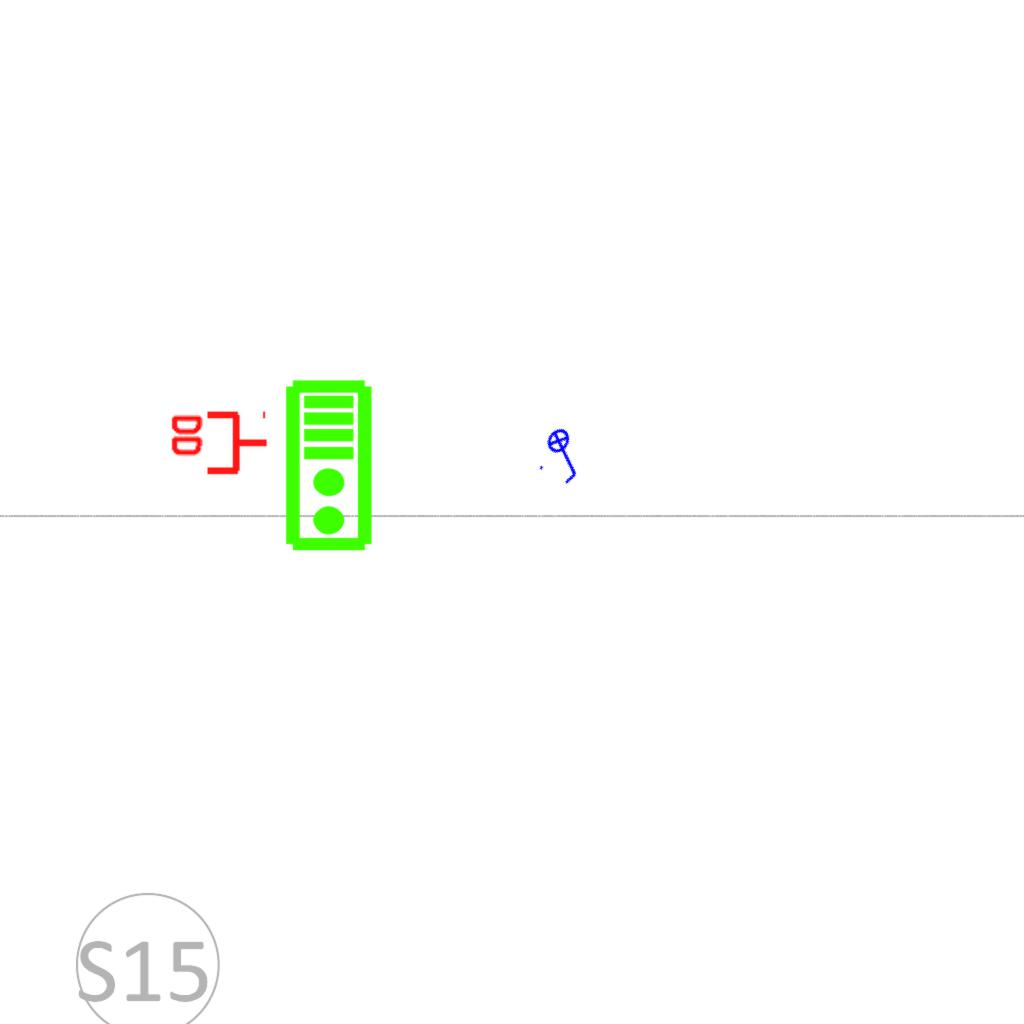Ausschalter_beleuchtet: (529, 418, 601, 492)
Datenanschluss_zweifach: (167, 410, 270, 479)
Gegensprechanlage_mit_Video: (283, 378, 378, 554)
